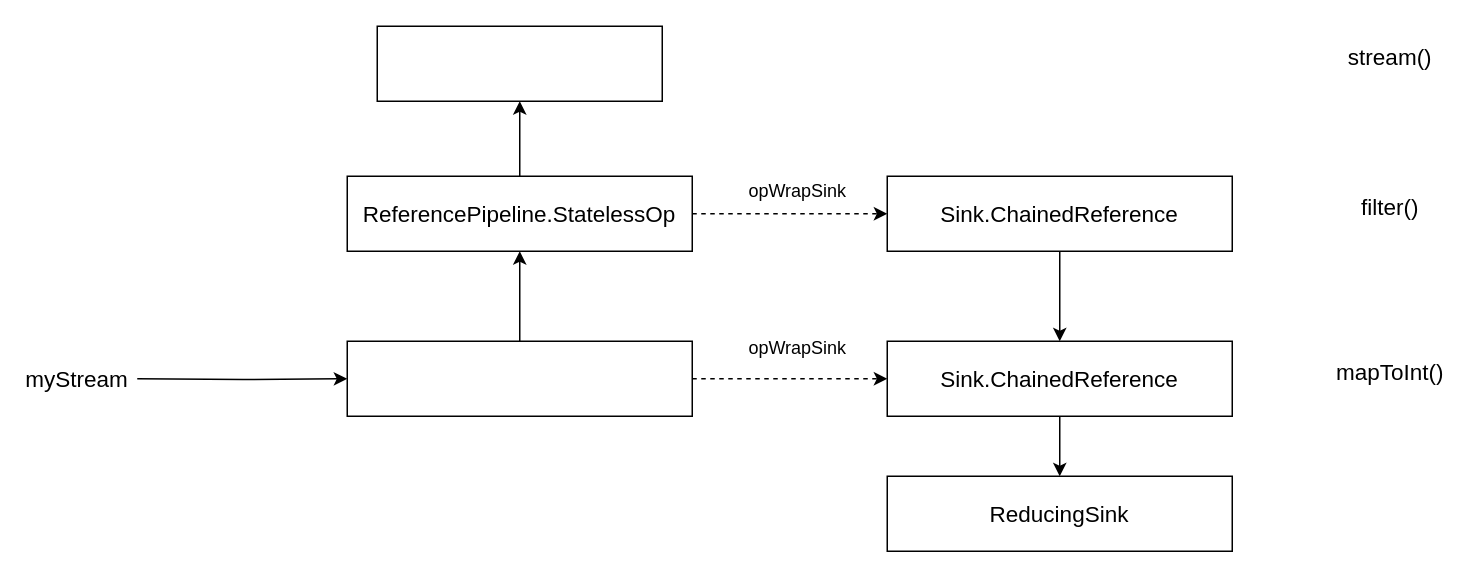
This 1482x578 diagram has some shape labels left out. The box of each missing label's shape, as (x1, y1, x2, y2) in pixels:
IntPipeline.StatelessOp: (346, 340, 692, 416)
ReferencePipeline.Head: (376, 25, 662, 101)
